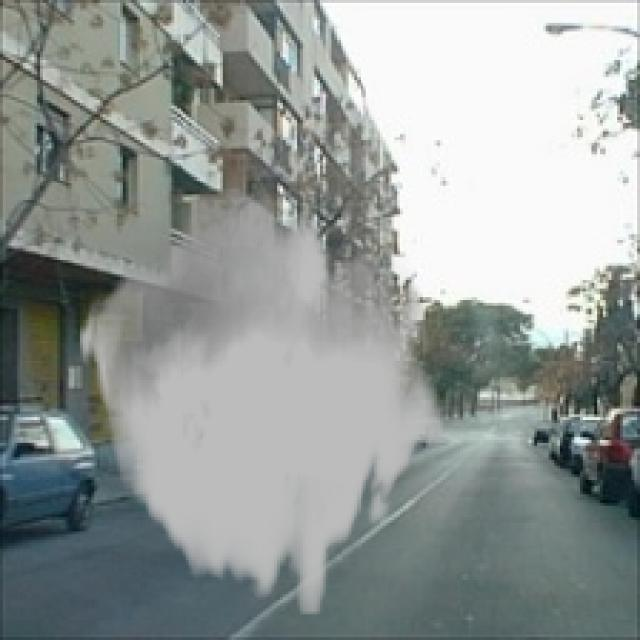smoke: (77, 189, 446, 614)
